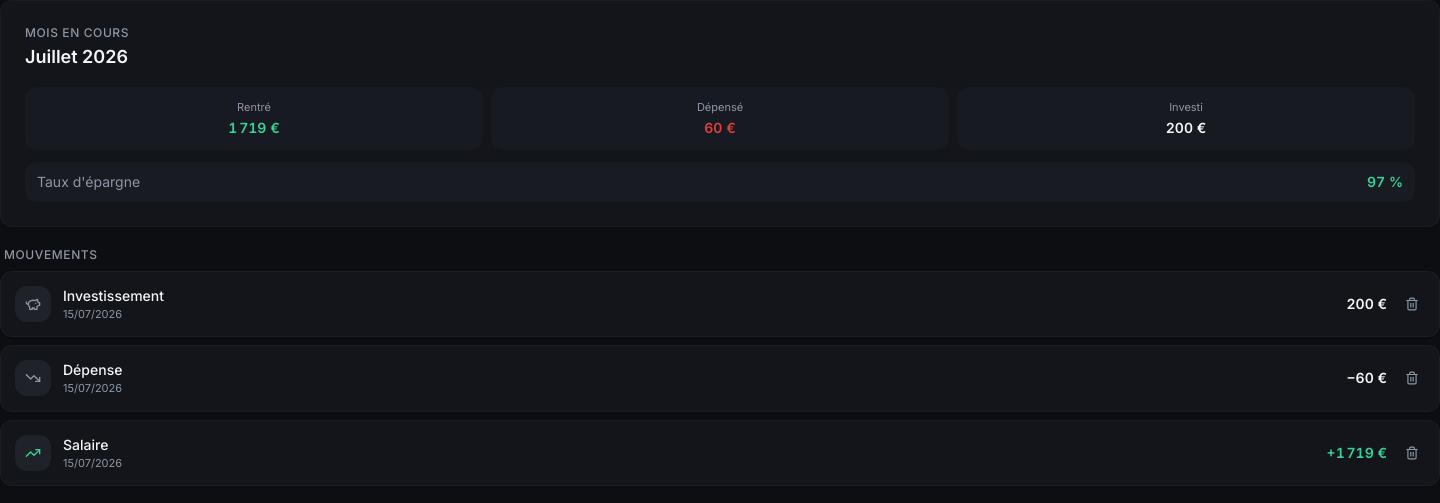
Mois › supprime un mouvement au clic sur son bouton de suppression
This screenshot has width=1440, height=503.
Click the button named "Supprimer ce mouvement" in the row of "Dépense".
click(1412, 378)  # box [1399,365,1425,391]
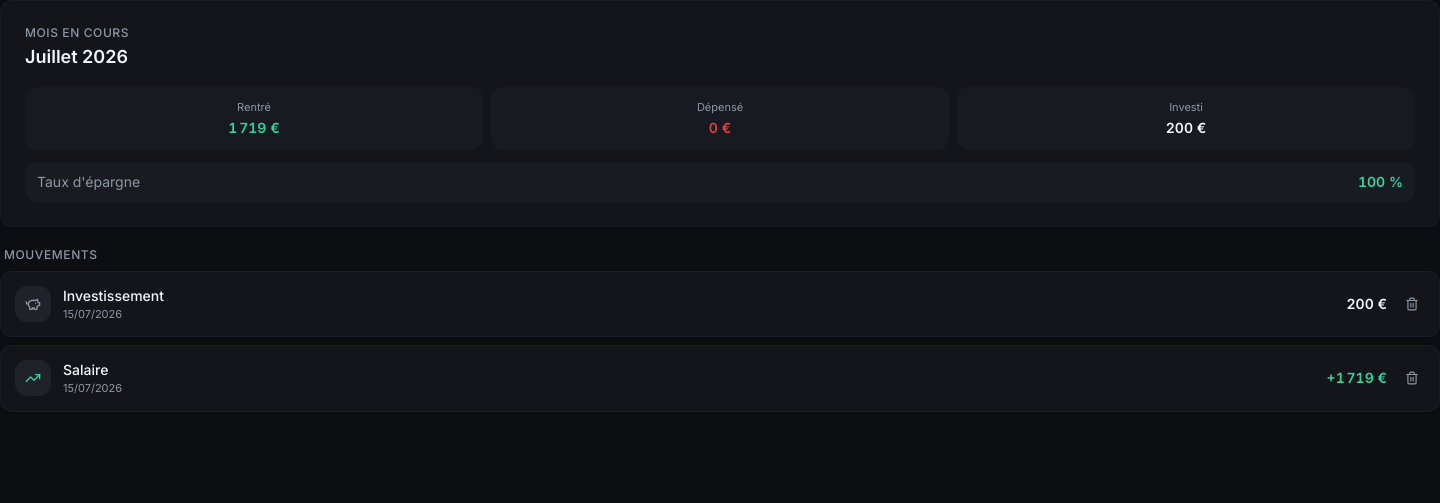
expect the text "+1 719 €" is shown: met, box [1327,368,1387,388]
expect the text "−60 €" is gone: met
expect the number of buttons named "Supprimer ce mouvement" is 2: met, box [1399,291,1425,317]; [1399,365,1425,391]
